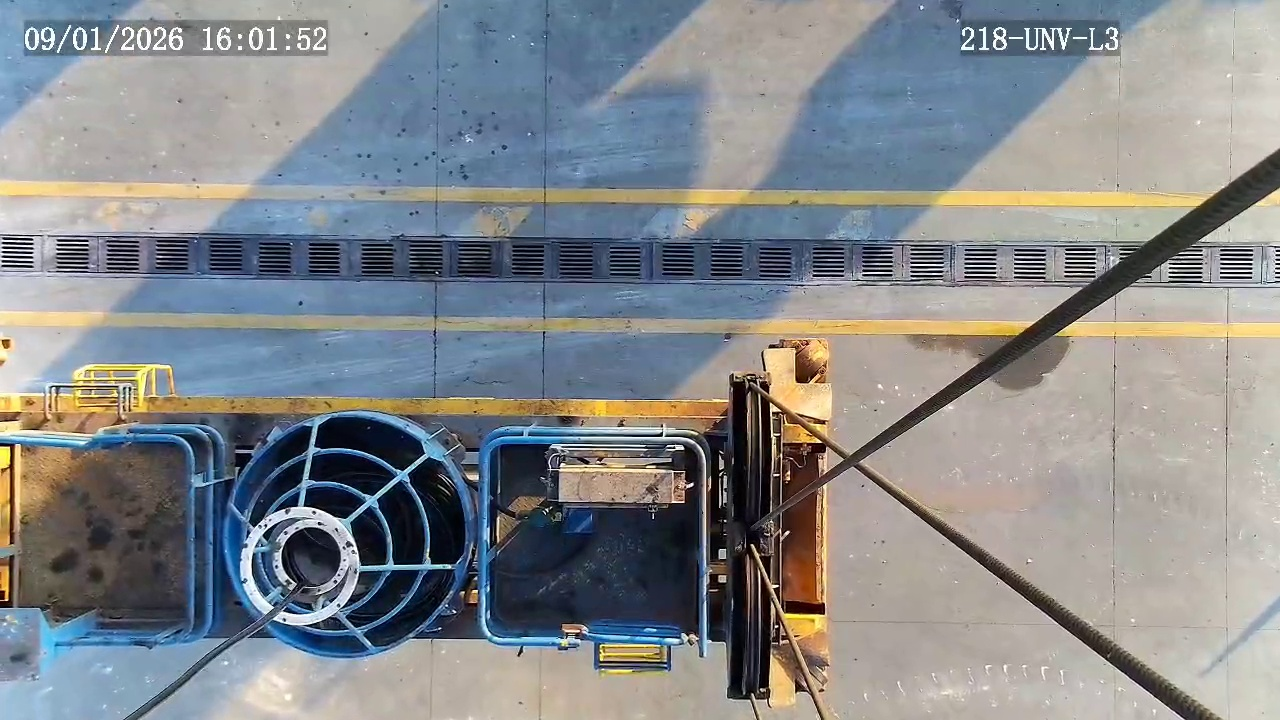right: (221, 413, 471, 658)
